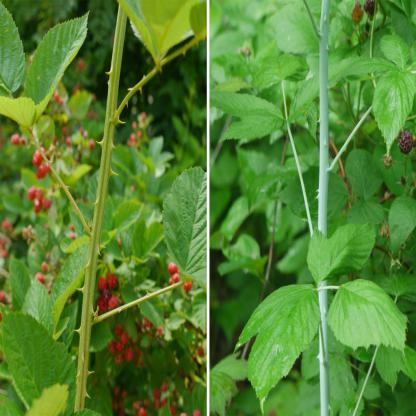raspberry leaf: (244, 285, 318, 407), (22, 7, 89, 106), (327, 277, 411, 355), (165, 161, 209, 285), (305, 220, 377, 282), (370, 68, 415, 157), (209, 88, 284, 139), (289, 66, 327, 125), (342, 56, 391, 81)
